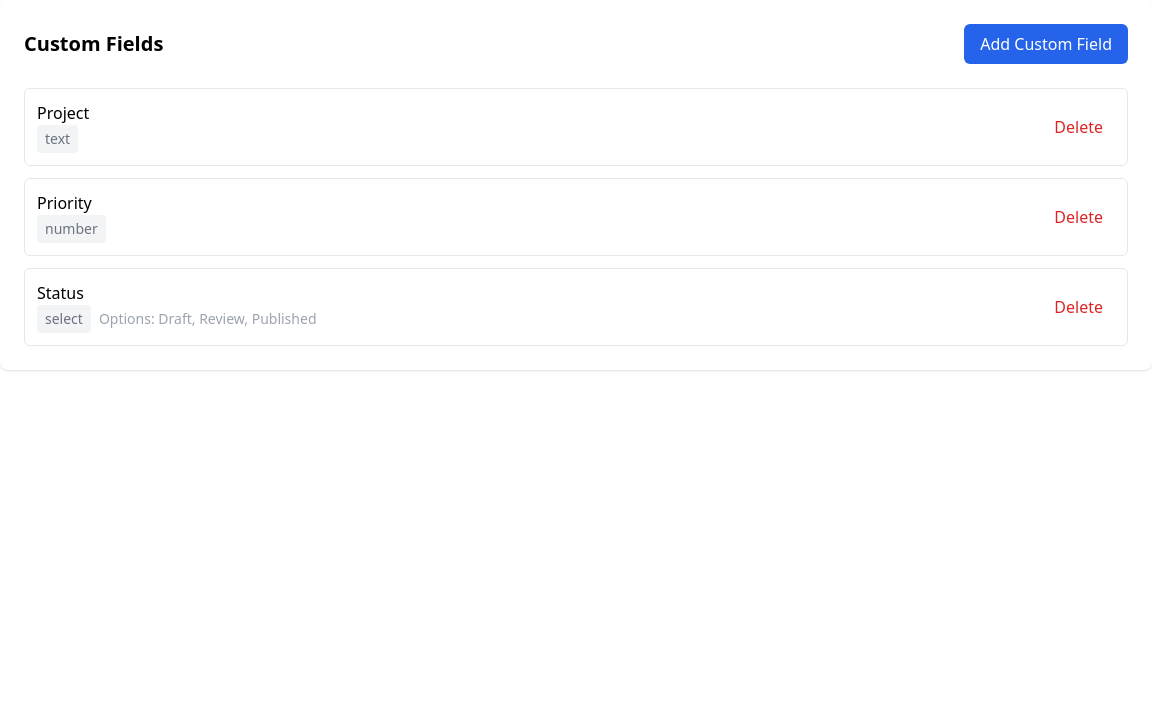
FieldManager › validates required field name
The image size is (1152, 720).
Note: Open dialog
What coordinates should you click on to do the following:
click the button "Add Custom Field"
I would click on:
 (1046, 44)
Its box is 964,24 -> 1128,64.
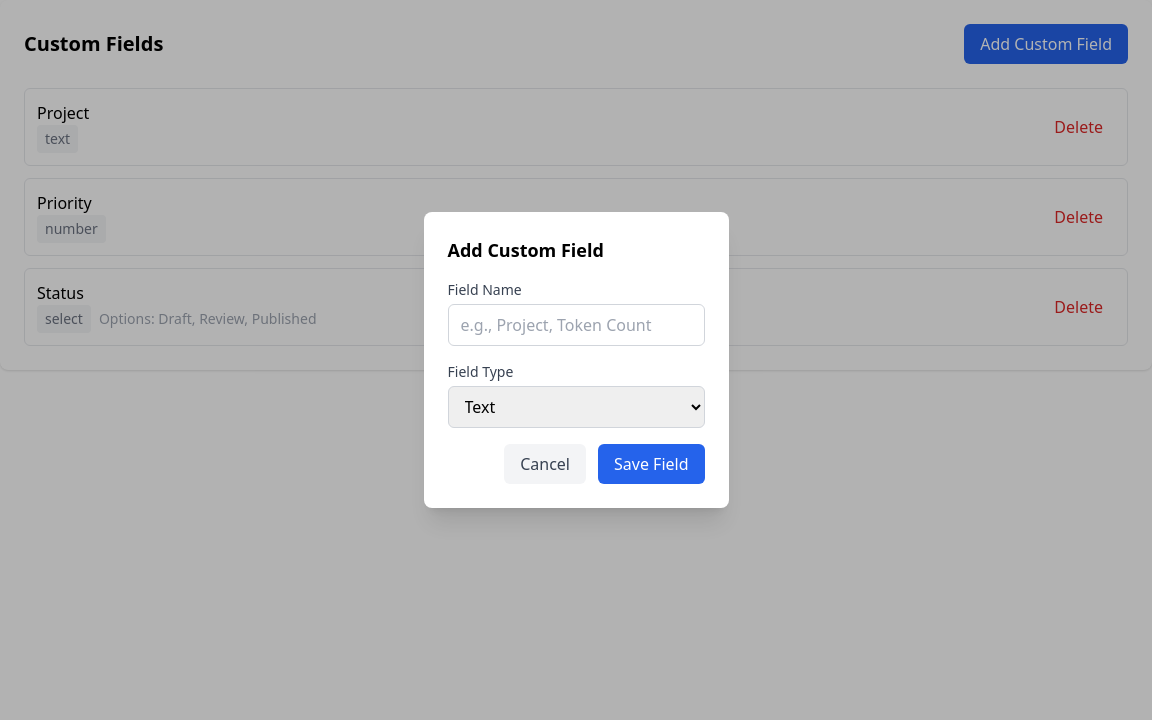
Note: Try to save without name
What coordinates should you click on to do the following:
click the button "Save Field"
I would click on:
 (651, 464)
Its box is 598,444 -> 704,484.
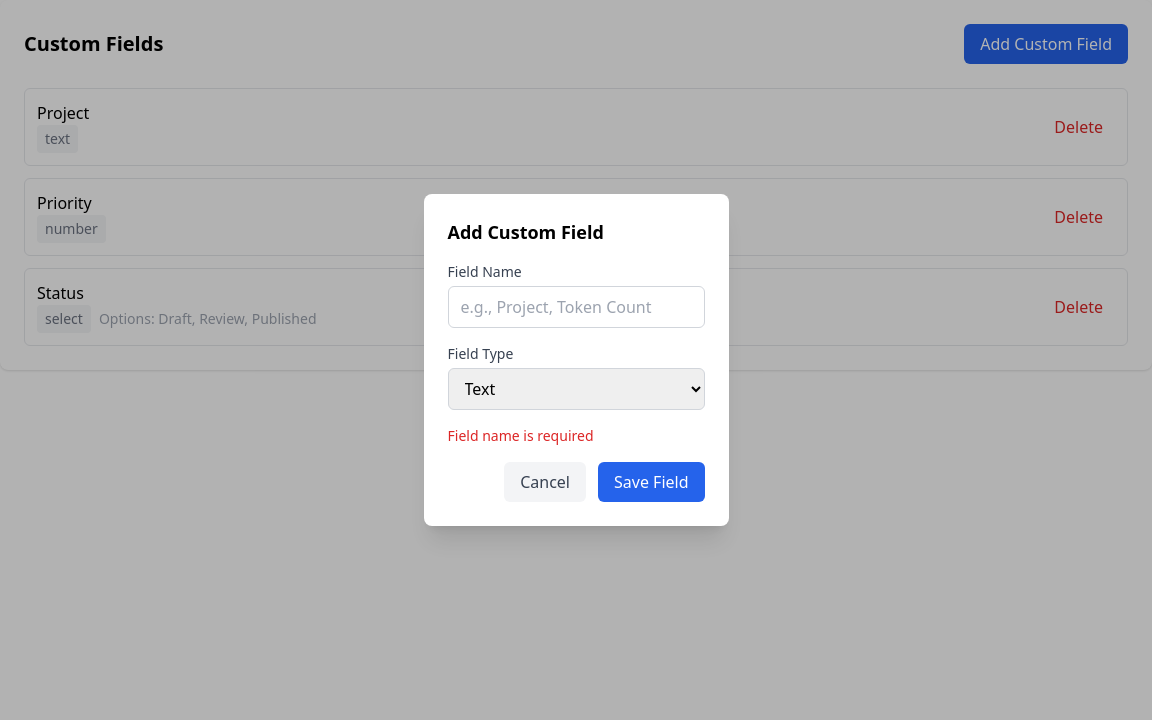
Result: the text "Field name is required" is shown at 448,426 -> 594,445
